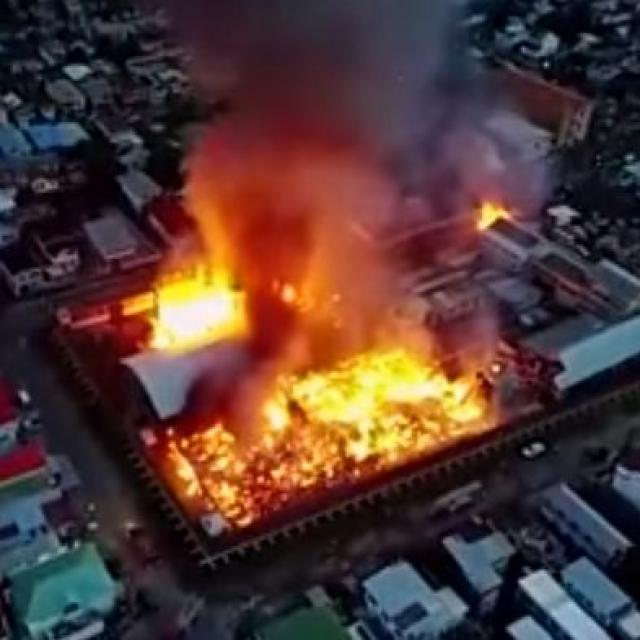Fire: (86, 246, 499, 537)
Smoke: (154, 0, 566, 362)
